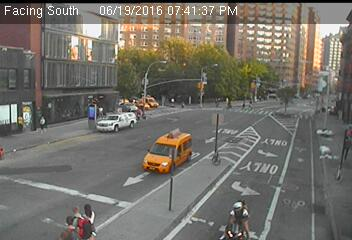neg: (223, 197, 255, 239), (314, 123, 331, 145), (84, 103, 99, 123), (317, 101, 332, 120)
pos: (334, 122, 351, 162), (35, 113, 51, 135), (60, 216, 76, 237), (82, 201, 98, 222), (69, 201, 82, 220), (166, 93, 179, 110), (97, 105, 105, 115)
